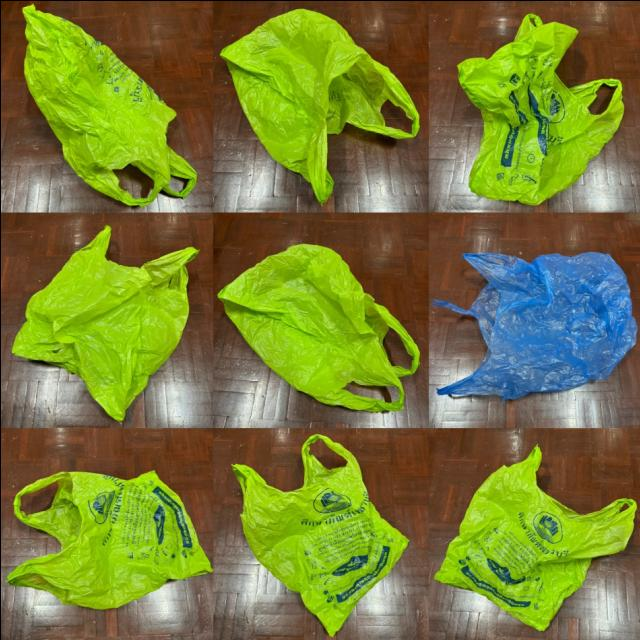plastik: (220, 9, 419, 201), (434, 446, 636, 630), (12, 225, 197, 419), (232, 433, 407, 633), (22, 4, 196, 205), (218, 244, 419, 411), (456, 12, 623, 204), (431, 251, 636, 399), (7, 470, 211, 609)
